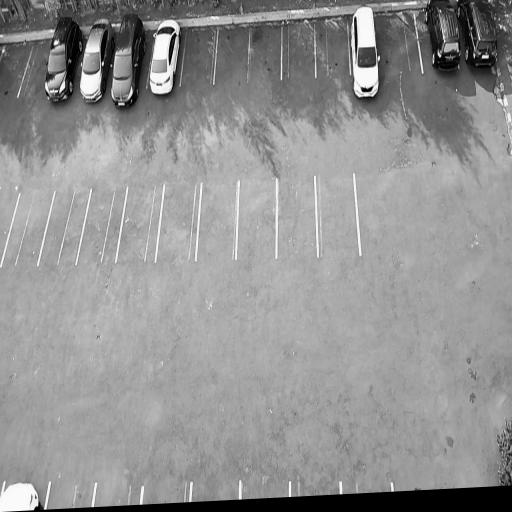Car: (41, 13, 85, 113), (108, 9, 150, 112), (76, 10, 118, 104), (349, 1, 383, 101), (456, 0, 502, 72), (423, 0, 465, 75), (147, 15, 184, 97), (0, 482, 43, 511)
Space Available: (38, 189, 91, 264), (1, 192, 55, 264), (77, 187, 127, 262), (315, 174, 361, 255), (116, 184, 164, 261), (155, 183, 202, 261), (276, 177, 318, 258), (196, 181, 239, 259), (237, 179, 277, 258), (180, 29, 219, 85), (214, 28, 252, 83), (314, 22, 351, 76), (248, 26, 282, 83), (281, 24, 316, 78), (0, 43, 33, 96), (17, 45, 49, 97), (0, 191, 20, 265), (46, 481, 96, 508), (92, 483, 143, 507), (141, 482, 191, 504), (190, 482, 241, 502), (240, 480, 291, 500), (291, 482, 341, 497), (341, 481, 392, 492)
